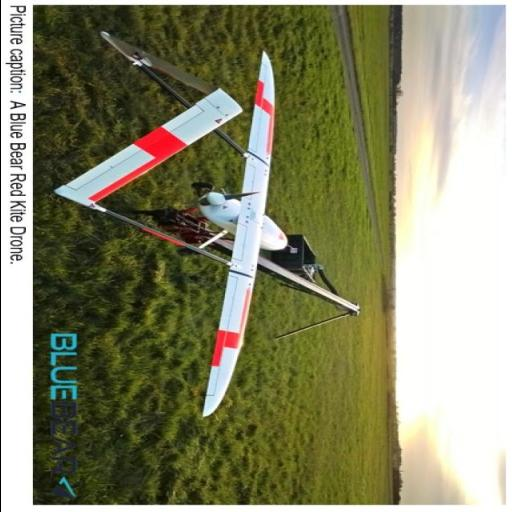uav: (52, 32, 304, 422)
